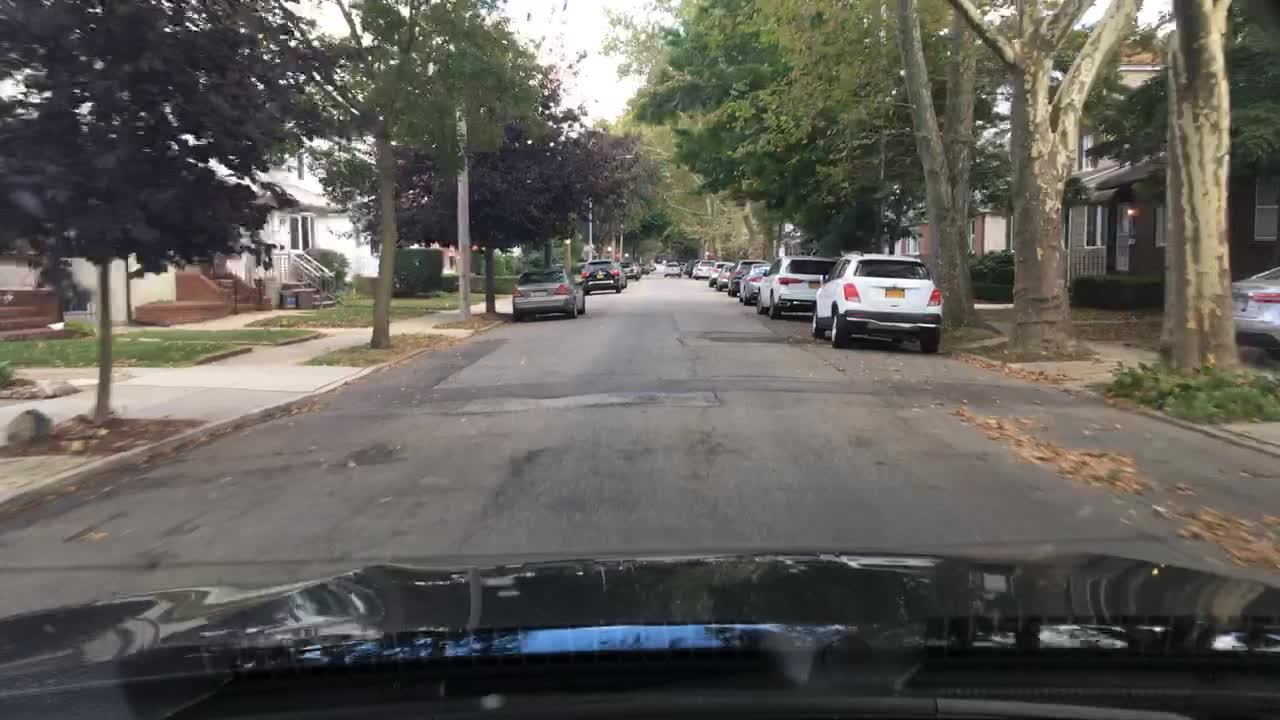car: (806, 250, 947, 356), (750, 251, 838, 324), (1229, 264, 1278, 366), (507, 264, 588, 322), (732, 261, 772, 312), (575, 262, 630, 296), (725, 256, 762, 300), (719, 261, 745, 296), (616, 256, 651, 282), (704, 261, 735, 285), (682, 254, 706, 279), (700, 259, 724, 283), (688, 258, 714, 279), (662, 258, 685, 280), (635, 259, 653, 279), (643, 259, 661, 274)
